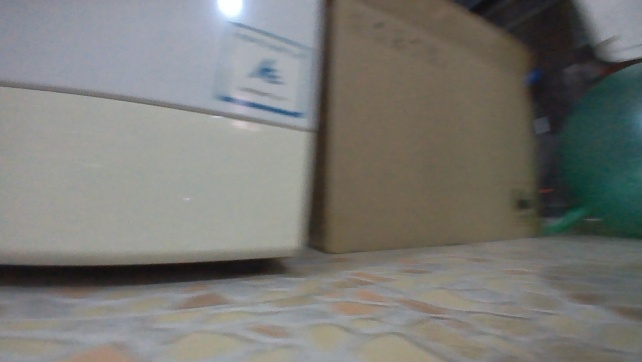washing_machine1: (0, 0, 331, 273)
